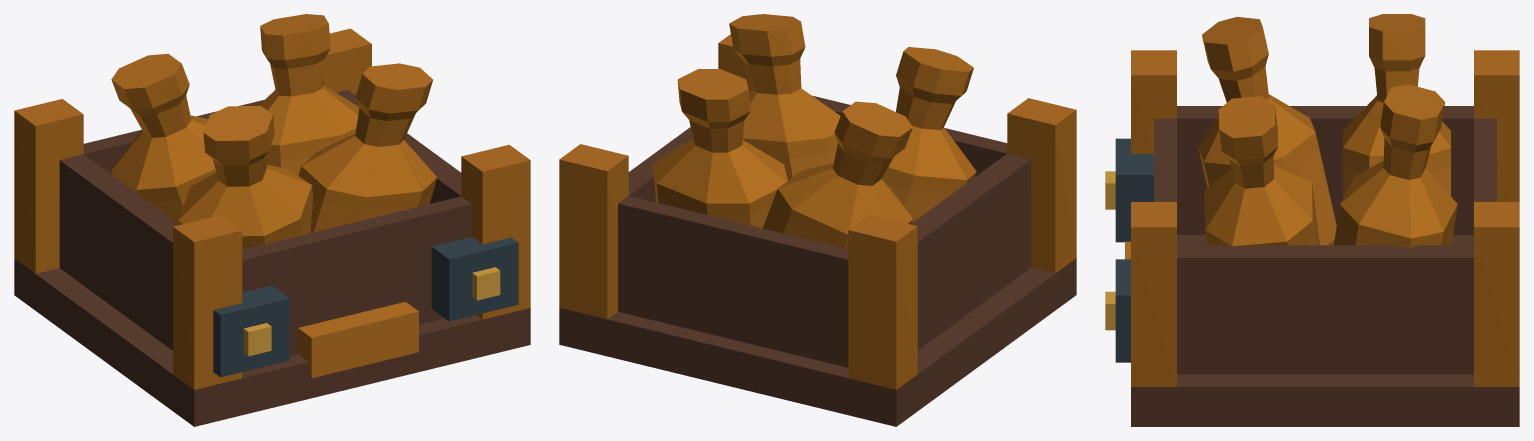
File: bottle-crate-butter.glb
The picture shows the model from 3 angles, left to right: view 1: azimuth 30°, elevation 25°; view 2: azimuth 150°, elevation 25°; view 3: azimuth 270°, elevation 25°; orthographic projection. The views are drawn at different scales.
Parts seen in each view (by area): view 1: bottle-crate-butter; view 2: bottle-crate-butter; view 3: bottle-crate-butter.
Part boxes in pixels (box(x1,y1,x2,y2)): bottle-crate-butter: box(14, 14, 530, 426); bottle-crate-butter: box(559, 14, 1076, 426); bottle-crate-butter: box(1105, 14, 1519, 426).
Bounding box in the file's own units: 0.68 × 0.49 × 0.6719.
